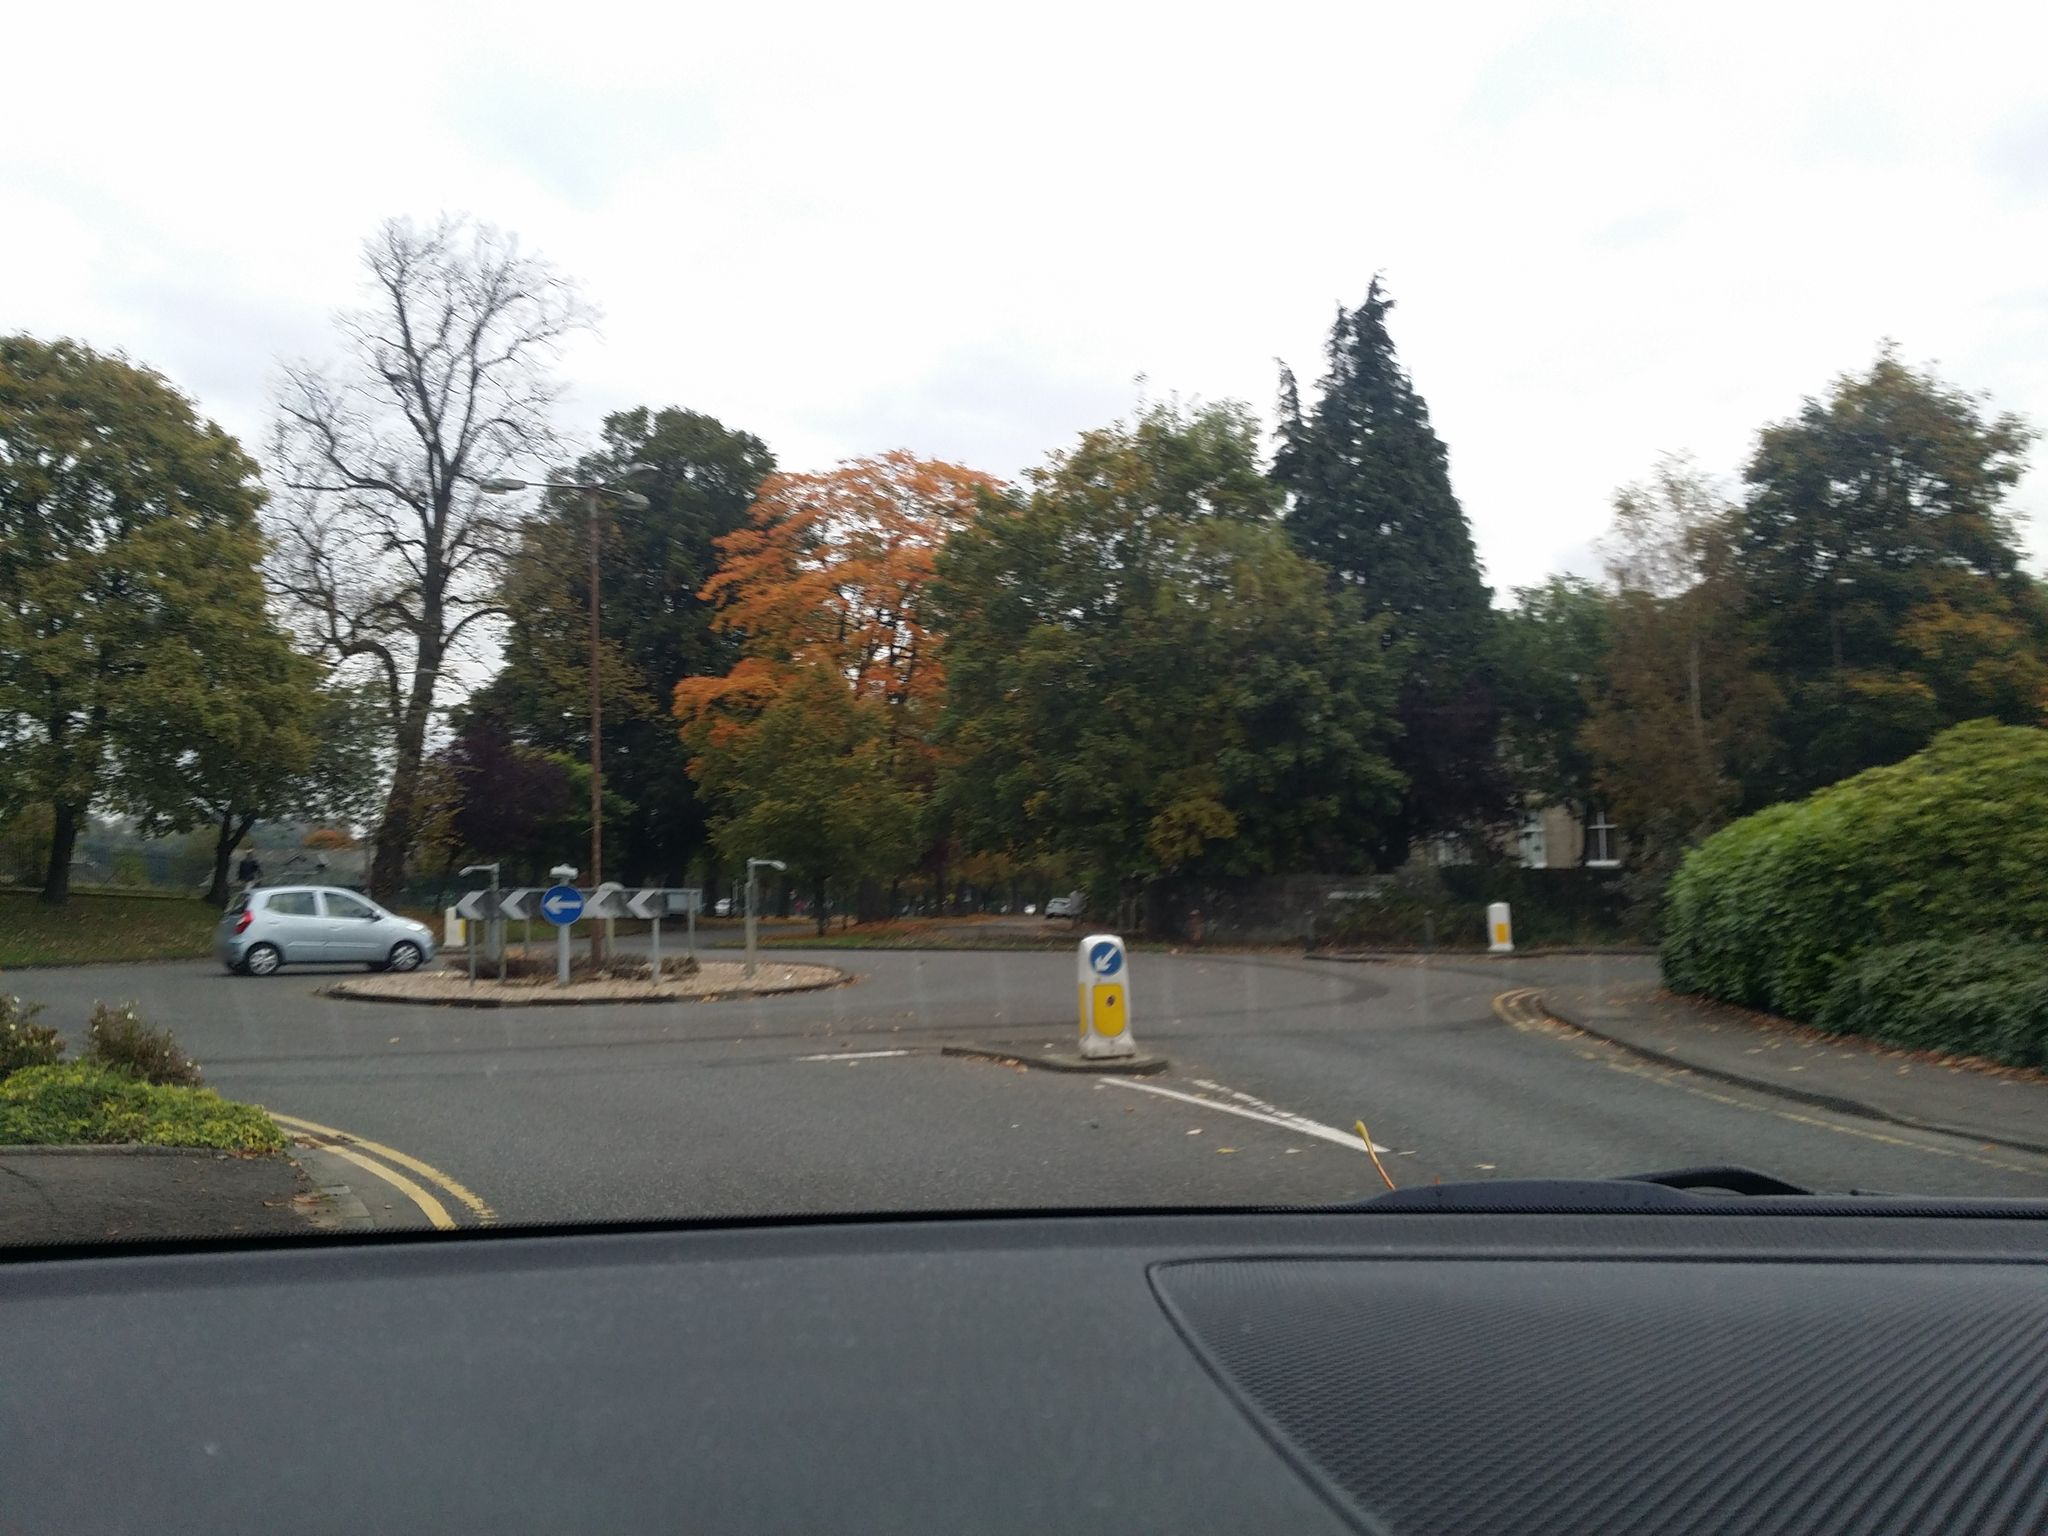car: (216, 884, 437, 978)
